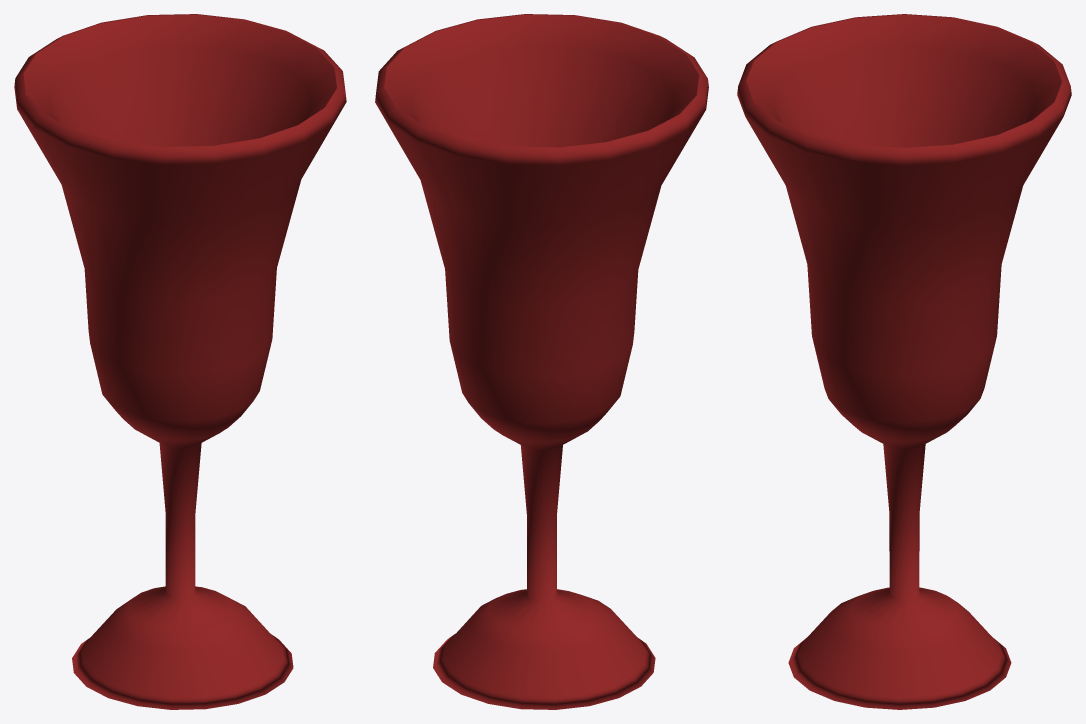
The model's file is Cup.fbx.
3 views of the same model, side by side, from view 1: azimuth 30°, elevation 25°; view 2: azimuth 150°, elevation 25°; view 3: azimuth 270°, elevation 25° (orthographic).
Parts seen in each view (by area): view 1: Cup1; view 2: Cup1; view 3: Cup1.
Part boxes in pixels (bbox=[...]): Cup1: bbox=[14, 14, 346, 709]; Cup1: bbox=[375, 14, 708, 709]; Cup1: bbox=[737, 14, 1071, 709].
Size of the model in its own units: 1.07 by 2.05 by 1.07.
